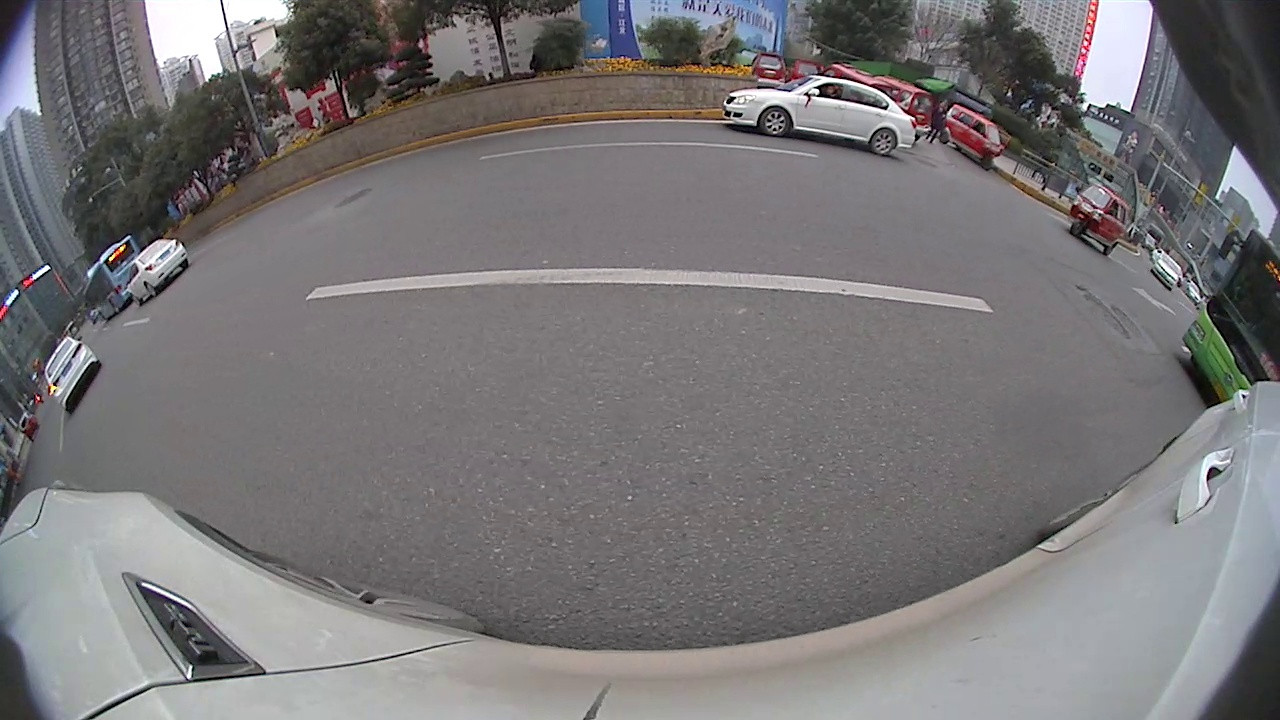bus: (1180, 225, 1278, 404), (80, 236, 143, 325)
car: (720, 73, 919, 158), (41, 334, 103, 416), (123, 237, 191, 305), (1149, 251, 1183, 291)
front: (758, 108, 793, 138), (1066, 217, 1087, 240), (143, 280, 160, 299)
person: (934, 98, 947, 140)
rear: (867, 127, 900, 159), (1101, 237, 1117, 260)
rider: (1067, 182, 1130, 257), (936, 103, 1003, 172), (873, 77, 933, 143), (818, 58, 887, 95), (749, 51, 789, 90), (783, 58, 823, 83)
